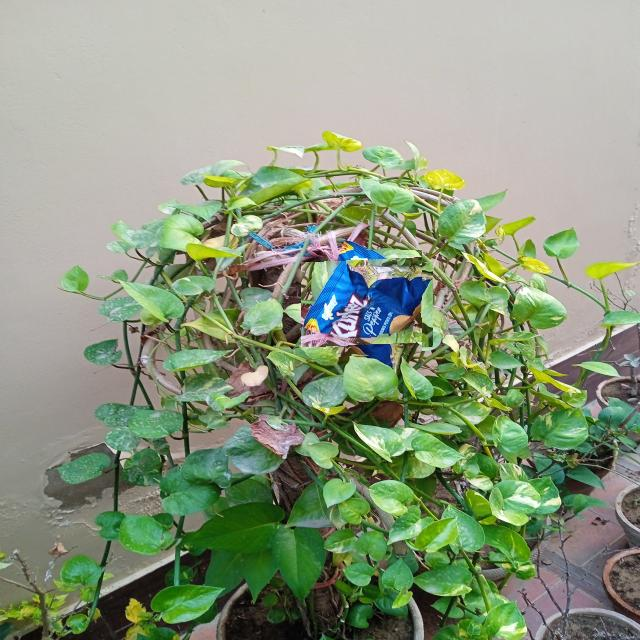Plastic: (312, 250, 422, 358)
